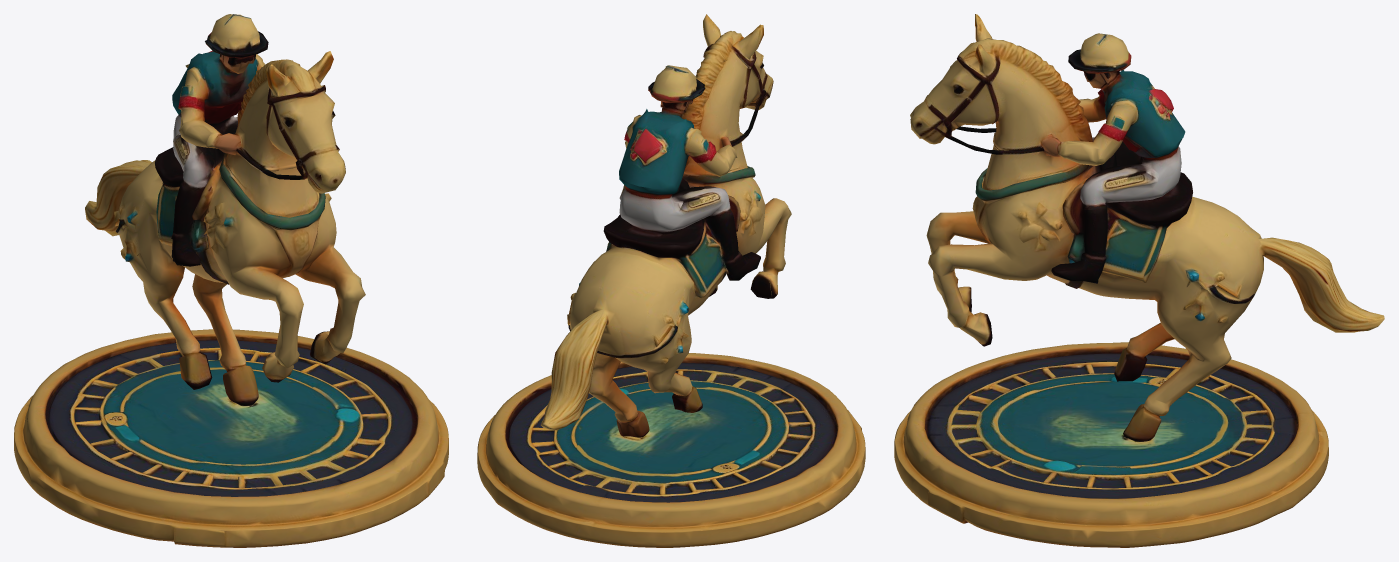
The model's file is front_runner.glb.
3 views of the same model, side by side, from view 1: azimuth 30°, elevation 25°; view 2: azimuth 150°, elevation 25°; view 3: azimuth 270°, elevation 25° (orthographic). The views are drawn at different scales.
Parts seen in each view (by area): view 1: tripo_node_b7c83834-f4c2-42a6-b3ed-4c4edb76ffa4; view 2: tripo_node_b7c83834-f4c2-42a6-b3ed-4c4edb76ffa4; view 3: tripo_node_b7c83834-f4c2-42a6-b3ed-4c4edb76ffa4.
Boxes of the visible parts, <box> form: tripo_node_b7c83834-f4c2-42a6-b3ed-4c4edb76ffa4: <box>14,14,448,547</box>; tripo_node_b7c83834-f4c2-42a6-b3ed-4c4edb76ffa4: <box>477,14,865,547</box>; tripo_node_b7c83834-f4c2-42a6-b3ed-4c4edb76ffa4: <box>894,14,1384,547</box>.
Size of the model in its own units: 0.8321 by 0.9575 by 0.9781.
1 material, 1 textured.
